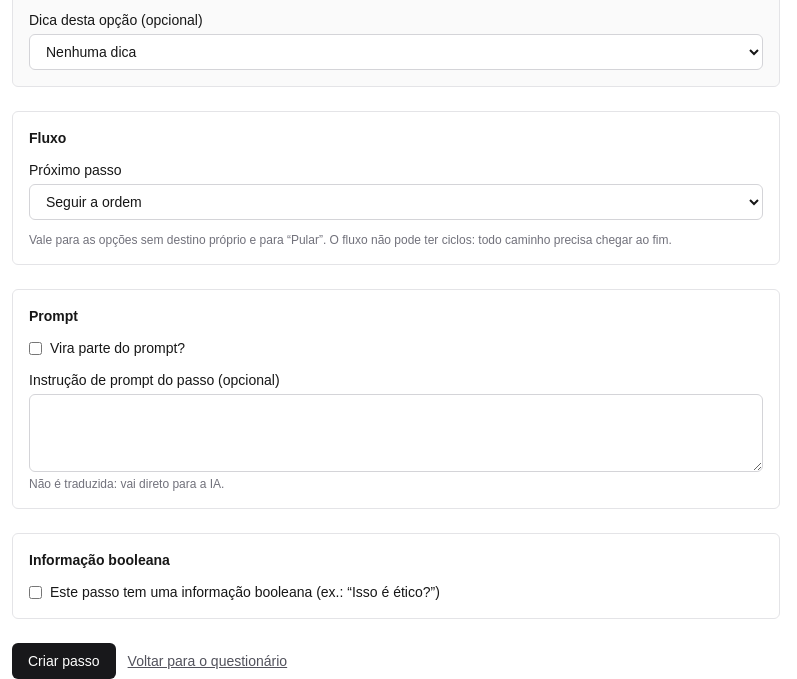
Test: StepForm › shows the info flag fields only when enabled
(page scrolled)
Check: the text "Pergunta informativa" is not shown
Click the checkbox labelled "tem uma informação booleana" at (36, 592), box [29, 586, 42, 598]
(page scrolled)
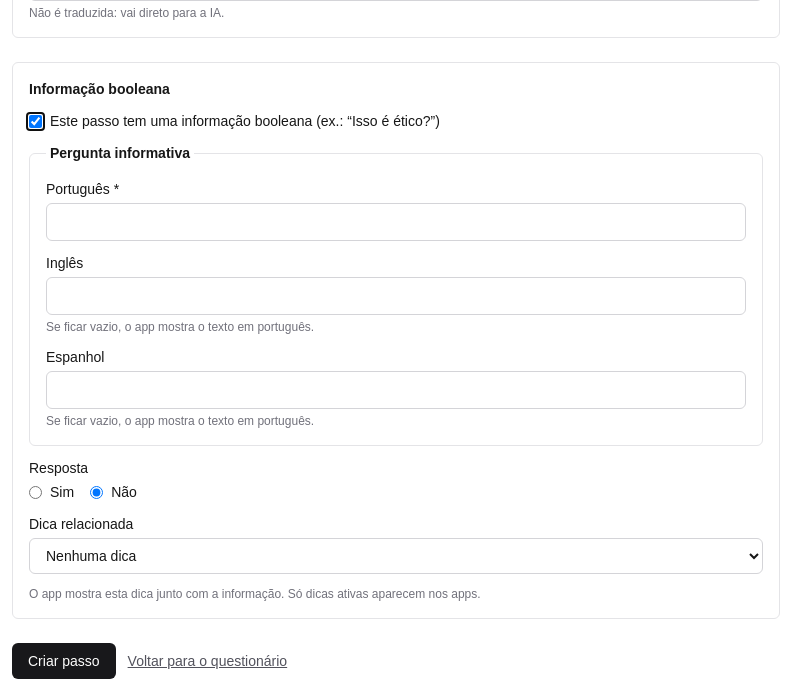
Check: the text "Pergunta informativa" is shown, box [46, 143, 194, 163]
Check: the radio button labelled "Não" is checked, box [90, 486, 103, 498]
